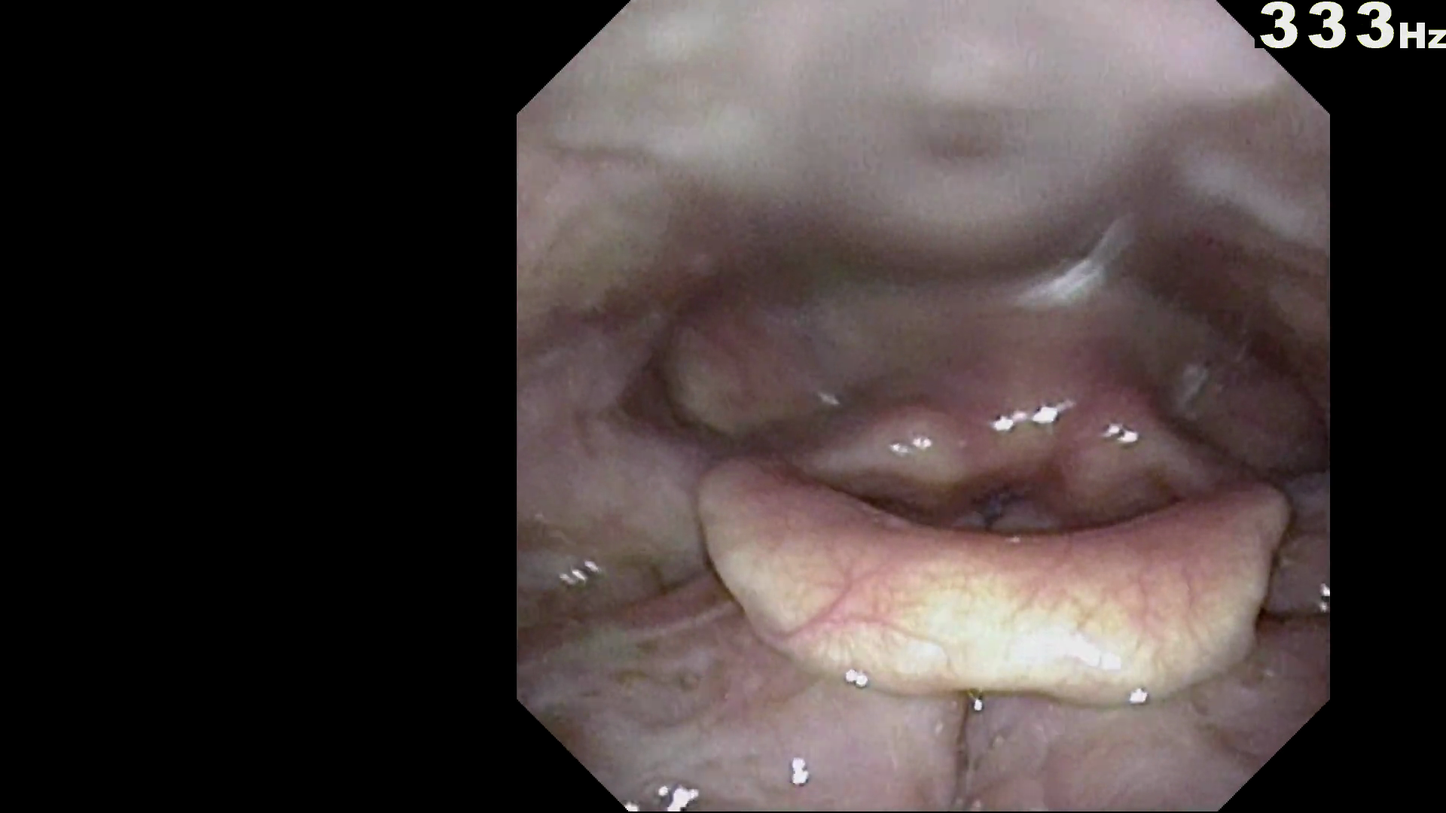epiglottis: (685, 478, 1294, 703)
trachea: (970, 487, 1033, 548)
